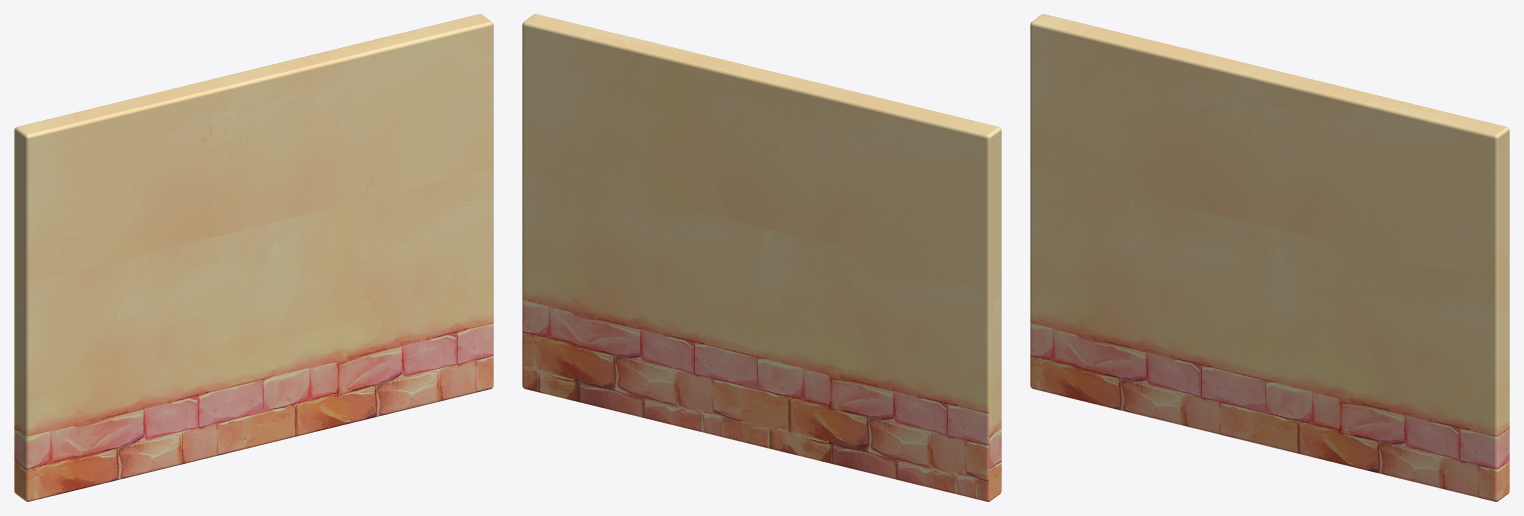
The model's file is Parede.fbx.
3 renders of one model, left to right at view 1: azimuth 30°, elevation 25°; view 2: azimuth 150°, elevation 25°; view 3: azimuth 330°, elevation 25°, orthographic.
Parts seen in each view (by area): view 1: Pared_sin_ventana; view 2: Pared_sin_ventana; view 3: Pared_sin_ventana.
Part boxes in pixels (box(x1,y1,x2,y2)): Pared_sin_ventana: box(14, 14, 493, 501); Pared_sin_ventana: box(522, 14, 1001, 501); Pared_sin_ventana: box(1030, 14, 1509, 501).
Bounding box in the file's own units: 1998 × 1497 × 99.14.
